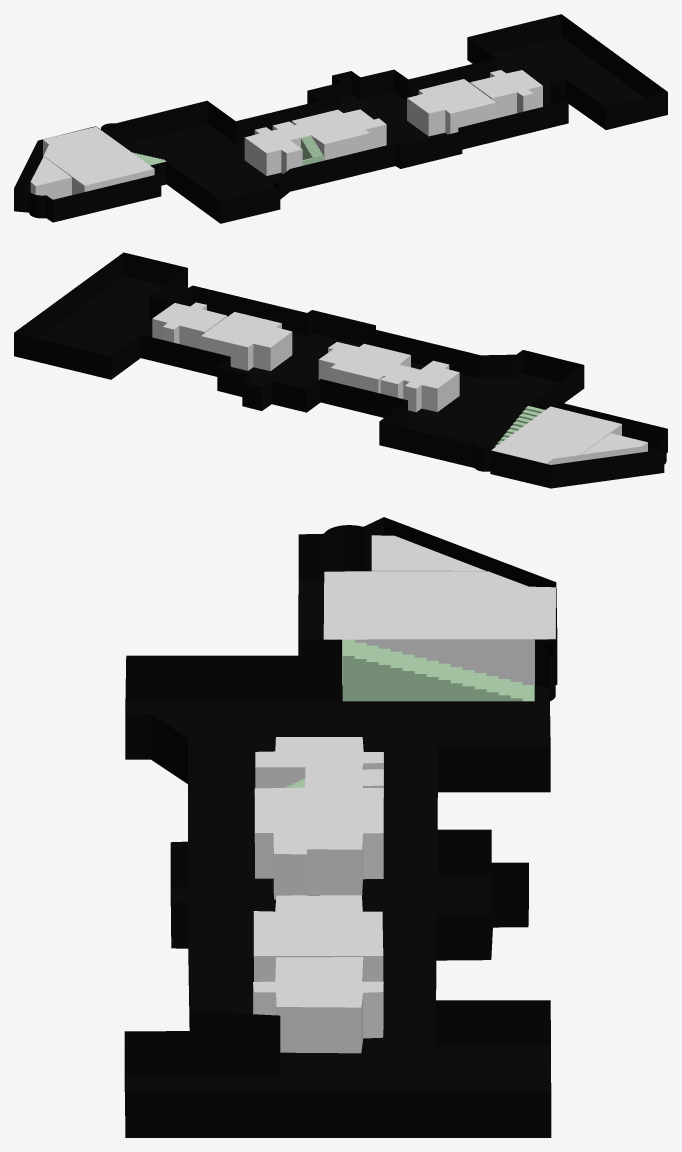
Rendered from attic.glb.
The picture shows the model from 3 angles, top to bottom: view 1: azimuth 30°, elevation 25°; view 2: azimuth 150°, elevation 25°; view 3: azimuth 270°, elevation 25°; orthographic projection. The views are drawn at different scales.
Parts seen in each view (by area): view 1: outline, city human resource management, multipurpose hall, city mayor office, city assessors office, Plane, Cube.002; view 2: outline, city human resource management, multipurpose hall, city mayor office, city assessors office, Plane, Cube.001; view 3: outline, multipurpose hall, city human resource management, city assessors office, city mayor office, Cube.001, Plane.
Part boxes in pixels (x1,y1,x2,y2): outline: [14, 14, 667, 223]; city human resource management: [244, 109, 386, 175]; multipurpose hall: [43, 126, 154, 194]; city mayor office: [407, 79, 495, 136]; city assessors office: [470, 70, 542, 118]; Plane: [30, 156, 71, 199]; Cube.002: [301, 136, 323, 165]; outline: [14, 252, 667, 488]; city human resource management: [318, 342, 459, 412]; multipurpose hall: [491, 406, 621, 464]; city mayor office: [201, 312, 292, 371]; city assessors office: [152, 302, 227, 349]; Plane: [581, 433, 647, 460]; Cube.001: [494, 406, 544, 446]; outline: [124, 517, 557, 1137]; multipurpose hall: [323, 571, 555, 685]; city human resource management: [254, 737, 383, 899]; city assessors office: [253, 957, 383, 1053]; city mayor office: [253, 895, 383, 981]; Cube.001: [342, 639, 534, 701]; Plane: [371, 535, 485, 571].
Size of the model in its own units: 3.69 by 0.1373 by 1.17.
